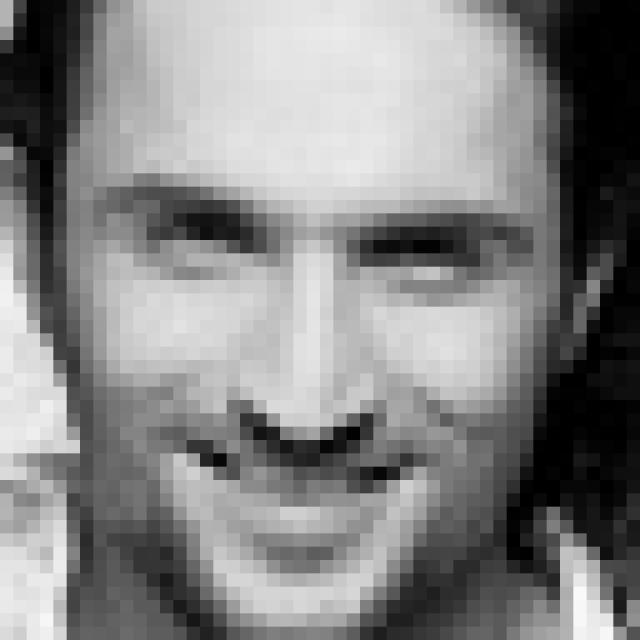happy: (84, 164, 539, 588)
